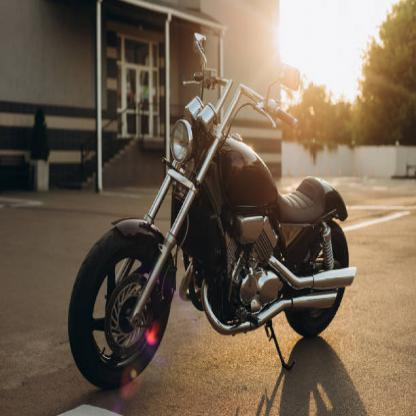Motorcycle: (61, 28, 367, 385)
